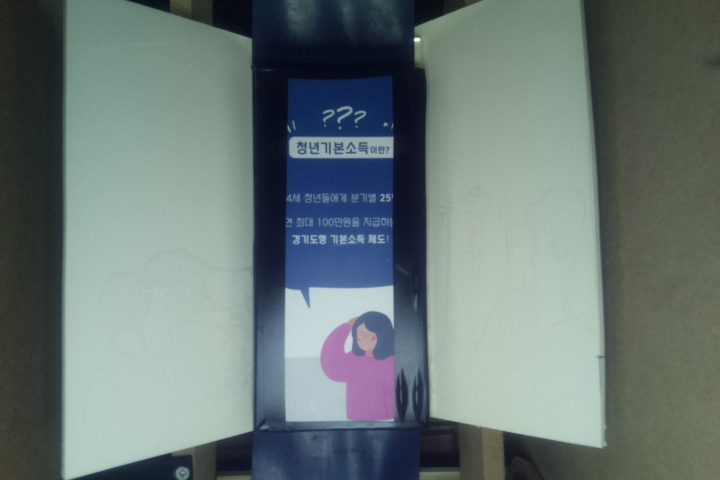book: (251, 65, 430, 433)
